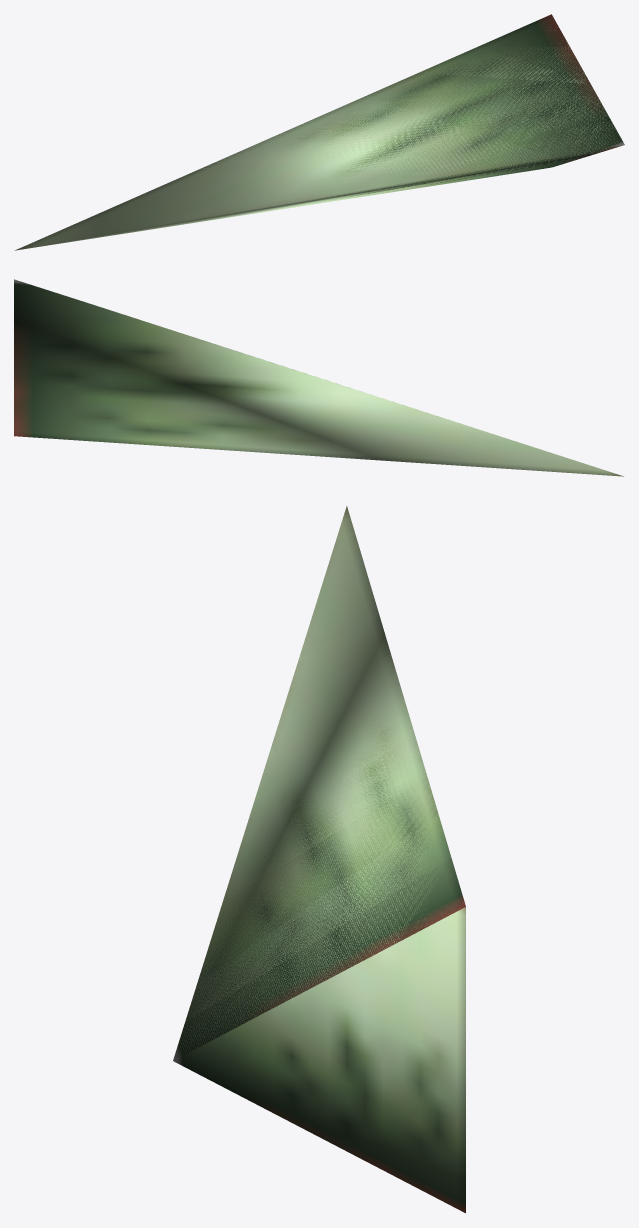
3 views of the same model, one above another, from view 1: azimuth 30°, elevation 25°; view 2: azimuth 150°, elevation 25°; view 3: azimuth 270°, elevation 25° (orthographic). The views are drawn at different scales.
Visible parts, largest first — view 1: T1L4M006_10; view 2: T1L4M006_10; view 3: T1L4M006_10.
Boxes of the visible parts, x1,y1,x2,y2 form: T1L4M006_10: (15, 14, 624, 250); T1L4M006_10: (14, 279, 623, 476); T1L4M006_10: (173, 506, 465, 1213).
Bounding box in the file's own units: 0.6768 × 0.1748 × 0.1514.
